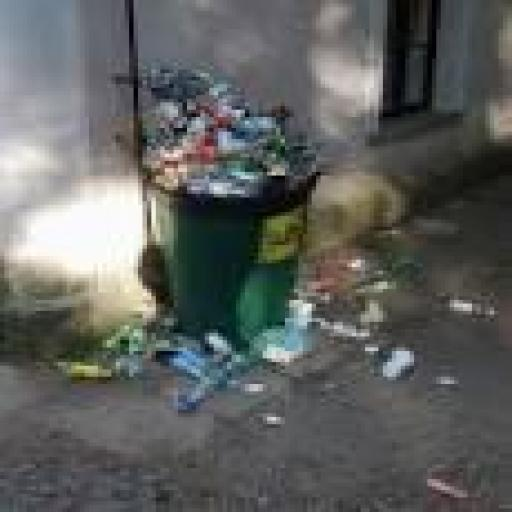poubelle_pleine: (118, 69, 356, 367)
